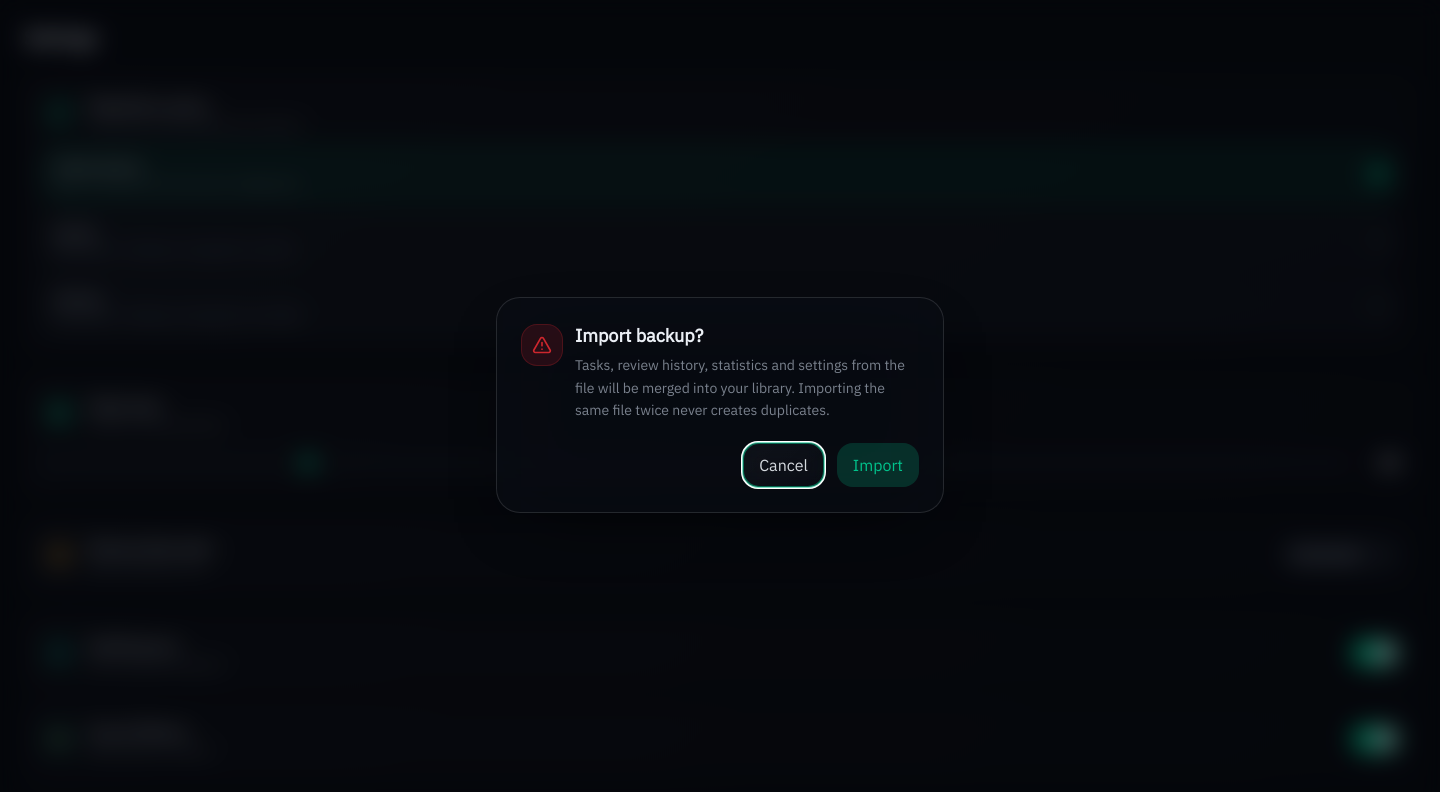
it: SettingsPanel › imports a backup file after confirmation
Earlier steps of the test are not shown.
Click the button "Import" at x=878, y=465, box [837,443,919,487]
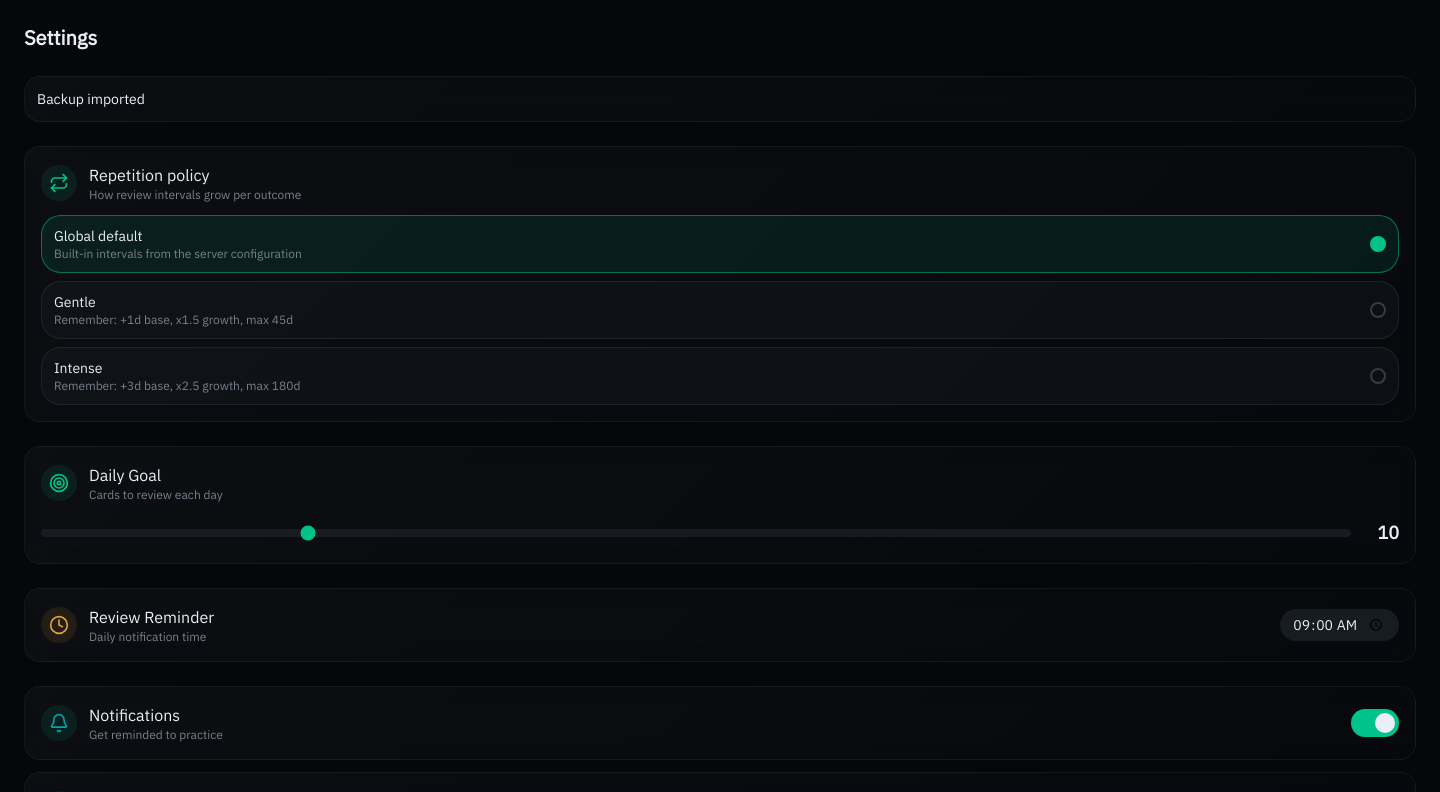
Expected: the text "Backup imported" is shown, [24,76,1416,122]
